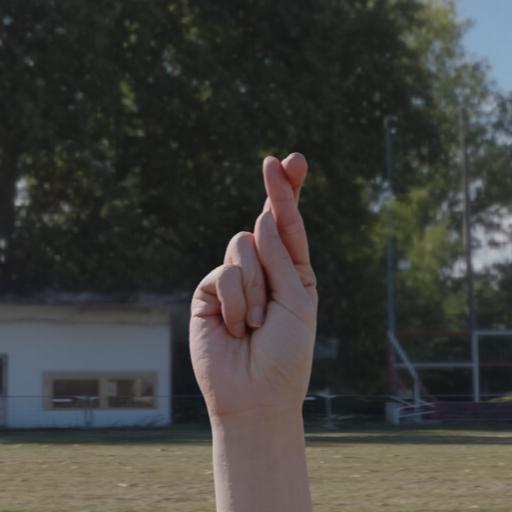R: (162, 138, 338, 430)
